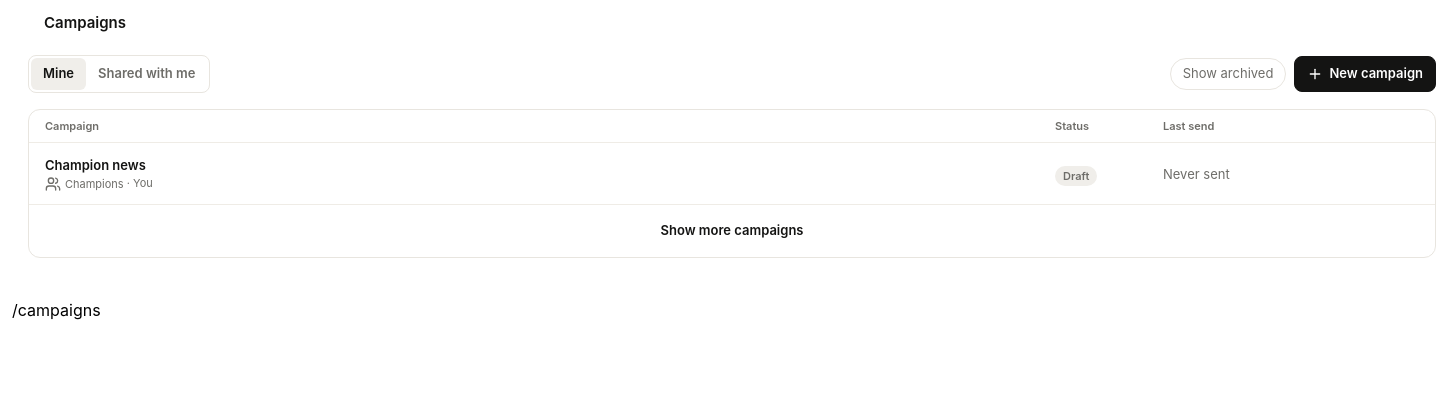
Test: /campaigns (spec §2.1) › moves focus to the first new row on a page that is not the last
The width and height of the screenshot is (1452, 399).
Step 1. Click the button "Show more campaigns" → (732,231), box [45,213,1419,249]
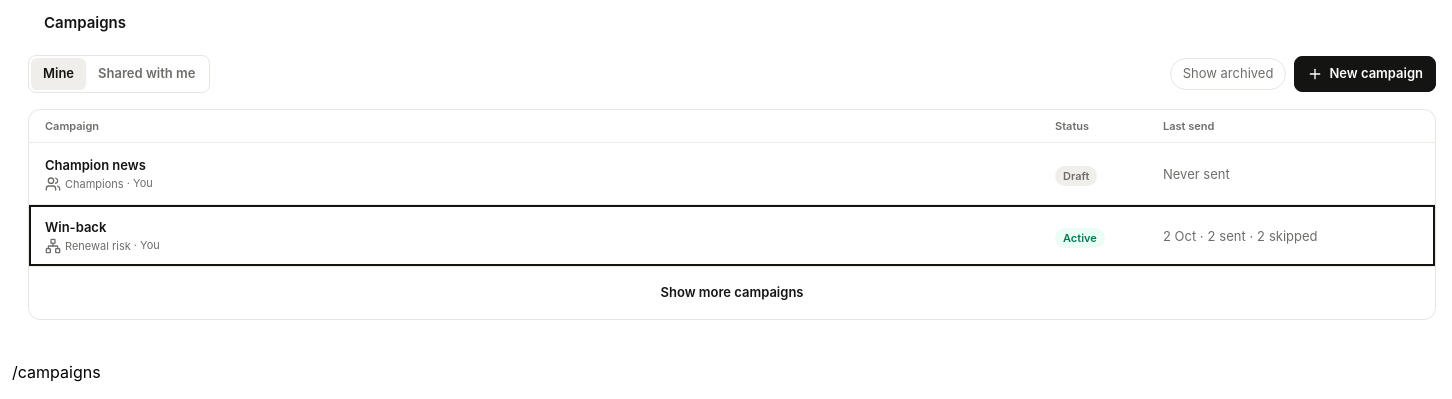
Expected: the button "Show more campaigns" is shown, [45,275,1419,311]
Now the number of list items is 2, box [29,143,1435,205]; [29,205,1435,266]
